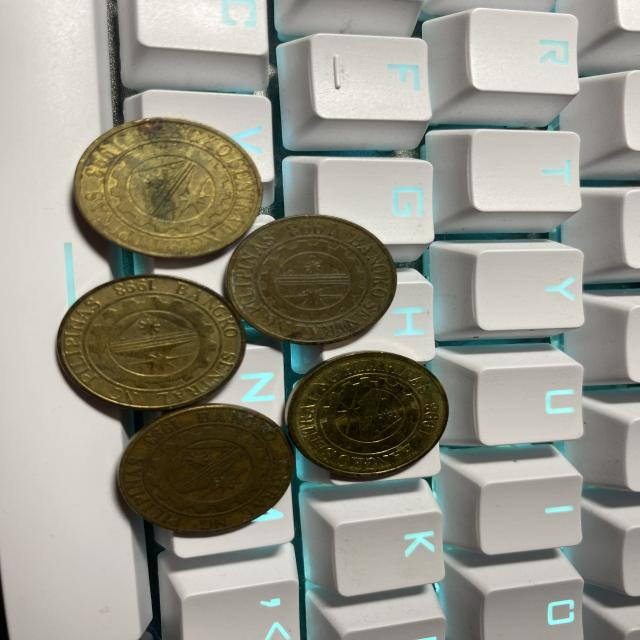25Cent_Old_Back: (91, 129, 254, 259), (66, 272, 233, 398), (134, 409, 283, 532), (300, 356, 446, 470), (263, 220, 383, 332)
